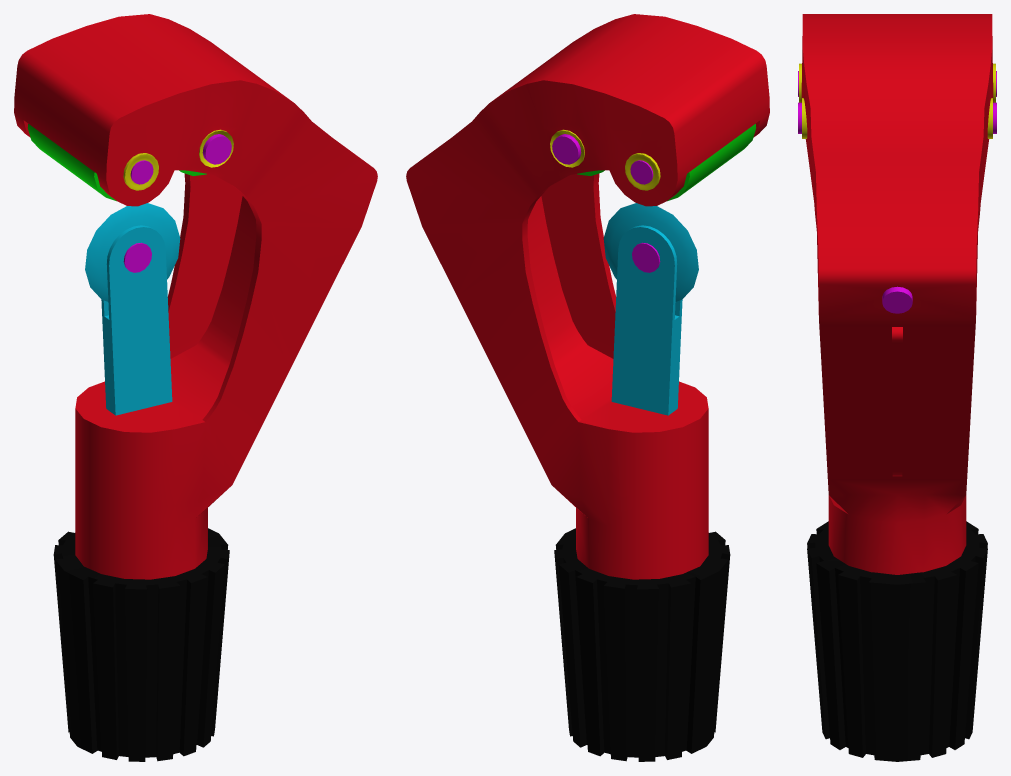
File: New Lap Cutter.fbx
3 views of the same model, side by side, from view 1: azimuth 30°, elevation 25°; view 2: azimuth 150°, elevation 25°; view 3: azimuth 270°, elevation 25° (orthographic). The views are drawn at different scales.
Visible parts, largest first — view 1: Lap Cutter; view 2: Lap Cutter; view 3: Lap Cutter.
Boxes of the visible parts, <box> form: Lap Cutter: <box>14,14,377,761</box>; Lap Cutter: <box>406,14,769,761</box>; Lap Cutter: <box>798,14,996,761</box>.
Bounding box in the file's own units: 3.35 × 7.63 × 1.98.
